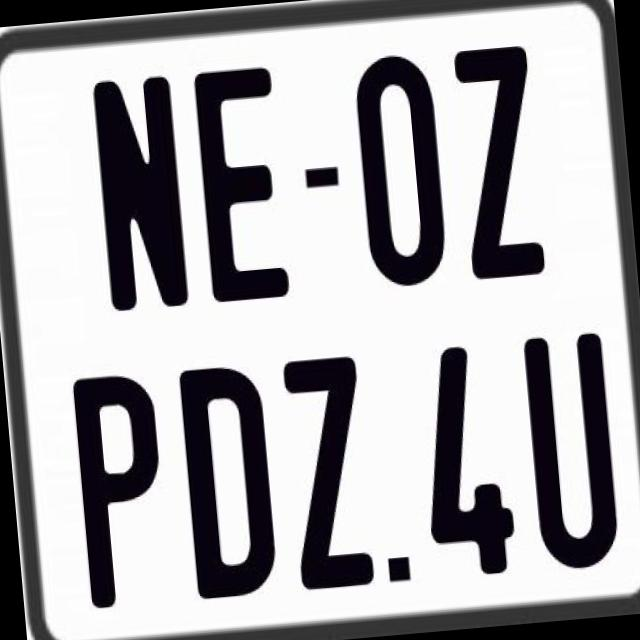0: (351, 51, 454, 292)
4: (412, 343, 515, 583)
D: (174, 360, 278, 600)
E: (188, 62, 292, 306)
N: (87, 70, 189, 307)
P: (72, 368, 174, 610)
U: (522, 329, 626, 572)
Z: (281, 356, 377, 596), (453, 46, 545, 286)
